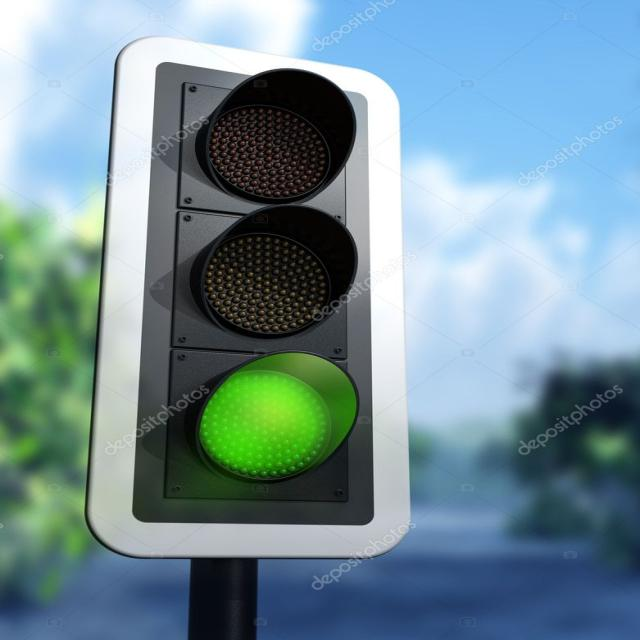green: (183, 356, 364, 506)
